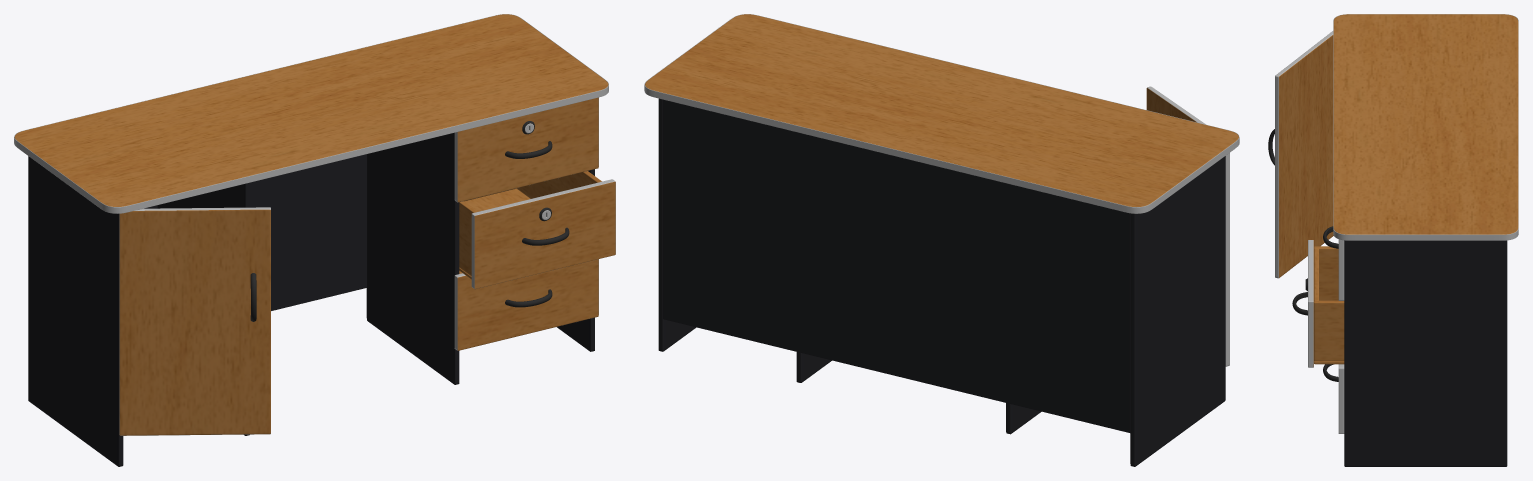
The model's file is Office_Table_LVL2.fbx.
3 views of the same model, side by side, from view 1: azimuth 30°, elevation 25°; view 2: azimuth 150°, elevation 25°; view 3: azimuth 270°, elevation 25° (orthographic). The views are drawn at different scales.
Visible parts, largest first — view 1: connect, table, Drawer3, Drawer1, Drawer, Drawer2; view 2: connect, table, Drawer3; view 3: table, connect, Drawer3, Drawer1, Drawer2, Drawer.
Part boxes in pixels (left/top/right/bottom): connect: left=28, top=132, right=594, bottom=466; table: left=14, top=14, right=608, bottom=213; Drawer3: left=119, top=207, right=270, bottom=435; Drawer1: left=459, top=171, right=615, bottom=289; Drawer: left=454, top=97, right=598, bottom=202; Drawer2: left=454, top=259, right=598, bottom=350; connect: left=658, top=98, right=1225, bottom=466; table: left=644, top=14, right=1239, bottom=213; Drawer3: left=1146, top=86, right=1229, bottom=366; table: left=1333, top=14, right=1518, bottom=240; connect: left=1344, top=240, right=1507, bottom=466; Drawer3: left=1268, top=31, right=1333, bottom=278; Drawer1: left=1292, top=240, right=1344, bottom=367; Drawer2: left=1323, top=364, right=1344, bottom=433; Drawer: left=1323, top=226, right=1344, bottom=300.
Bounding box in the file's own units: 181 × 91.24 × 86.91.
